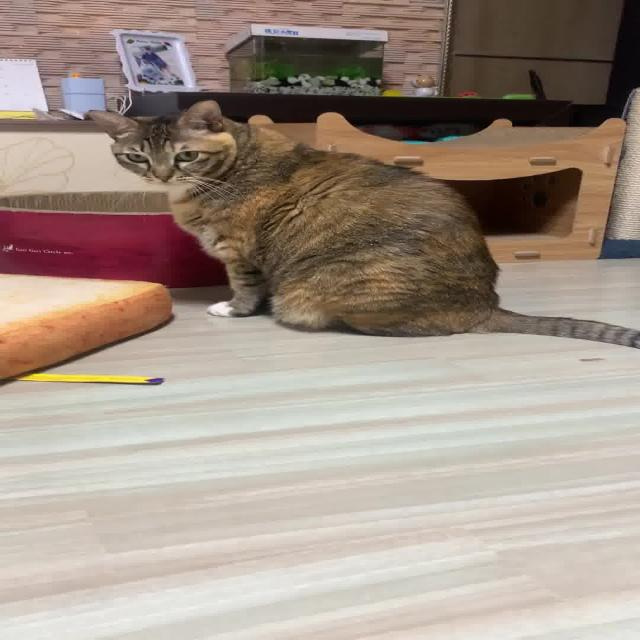cat: (60, 94, 640, 364)
